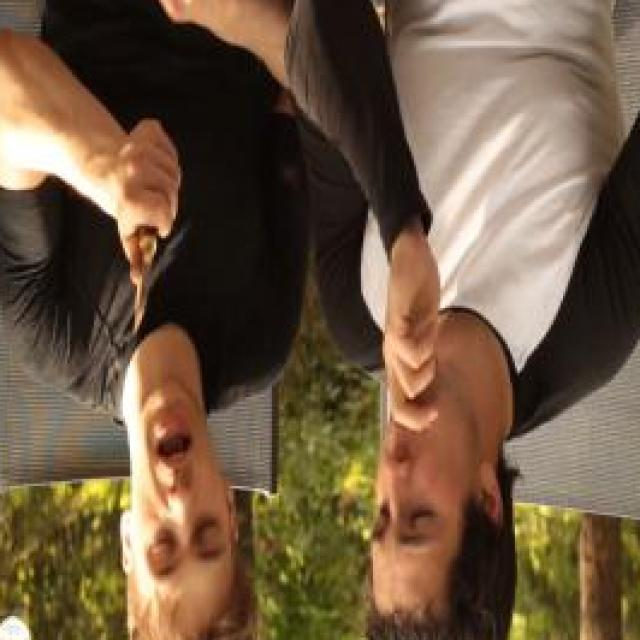knife: (98, 152, 186, 354)
